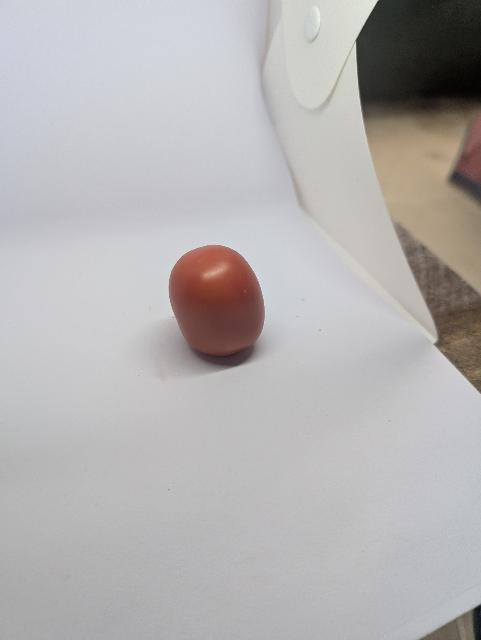red: (153, 237, 290, 372)
